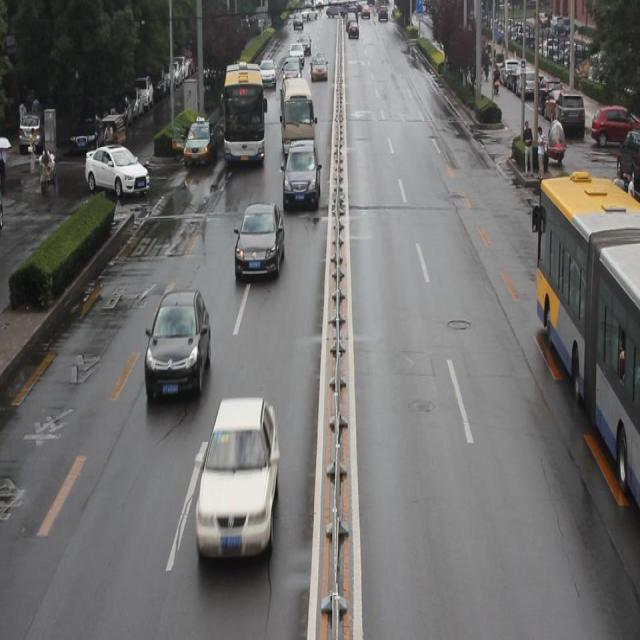car: (197, 393, 277, 558), (146, 292, 208, 401), (234, 204, 284, 280), (84, 143, 147, 201), (284, 140, 319, 207), (183, 129, 216, 179)
truck: (280, 80, 316, 162)
van: (531, 183, 640, 519), (223, 64, 264, 165)
